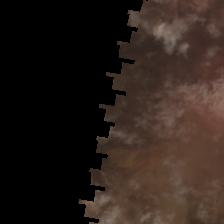landslides: (14, 38, 21, 67)
